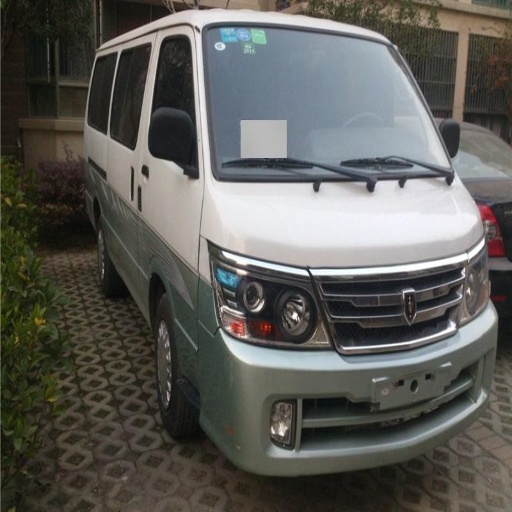front_bumper: (192, 310, 495, 474)
front_right_door: (111, 29, 200, 313)
front_right_light: (223, 260, 325, 347)
hood: (222, 176, 481, 352)
